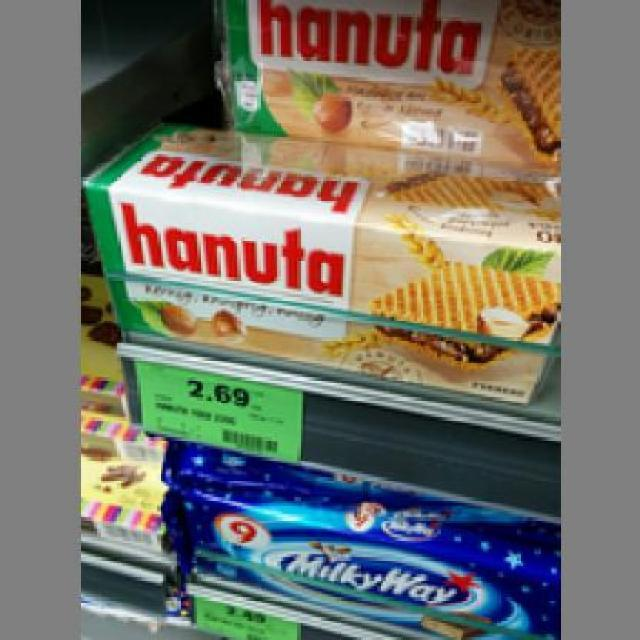Chocolate: (77, 114, 557, 337), (160, 477, 557, 637), (214, 0, 557, 160)
